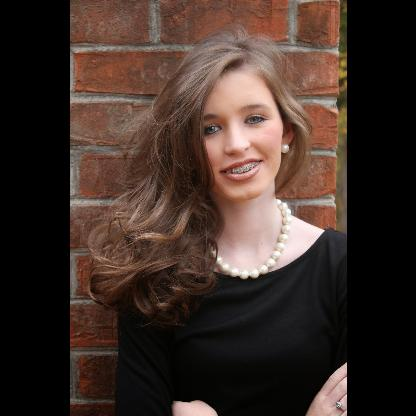Female: (195, 69, 291, 202)
